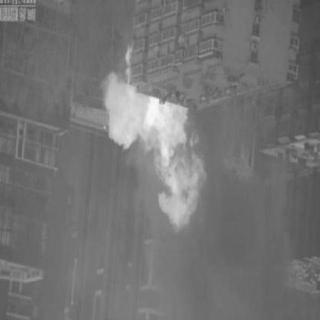Fire: (99, 54, 210, 234)
Smoke: (144, 168, 275, 320)
